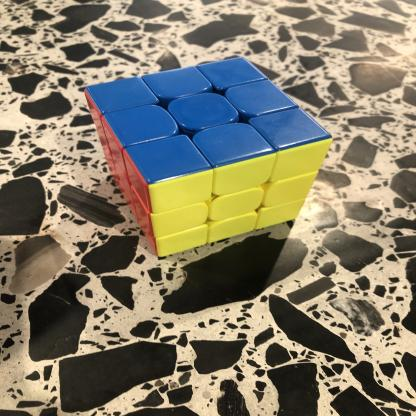SolvedCube: (68, 53, 343, 263)
